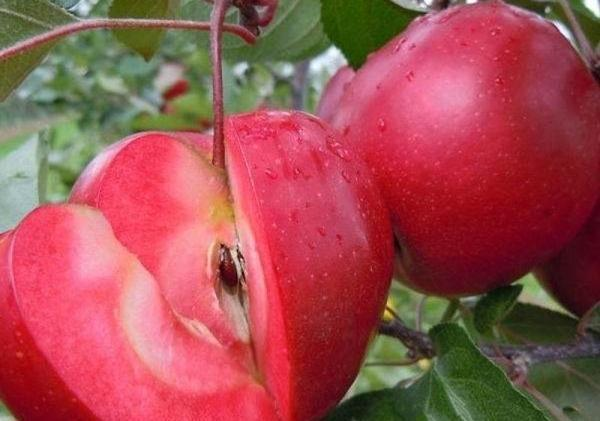apple: (1, 104, 395, 421), (314, 2, 600, 299)
